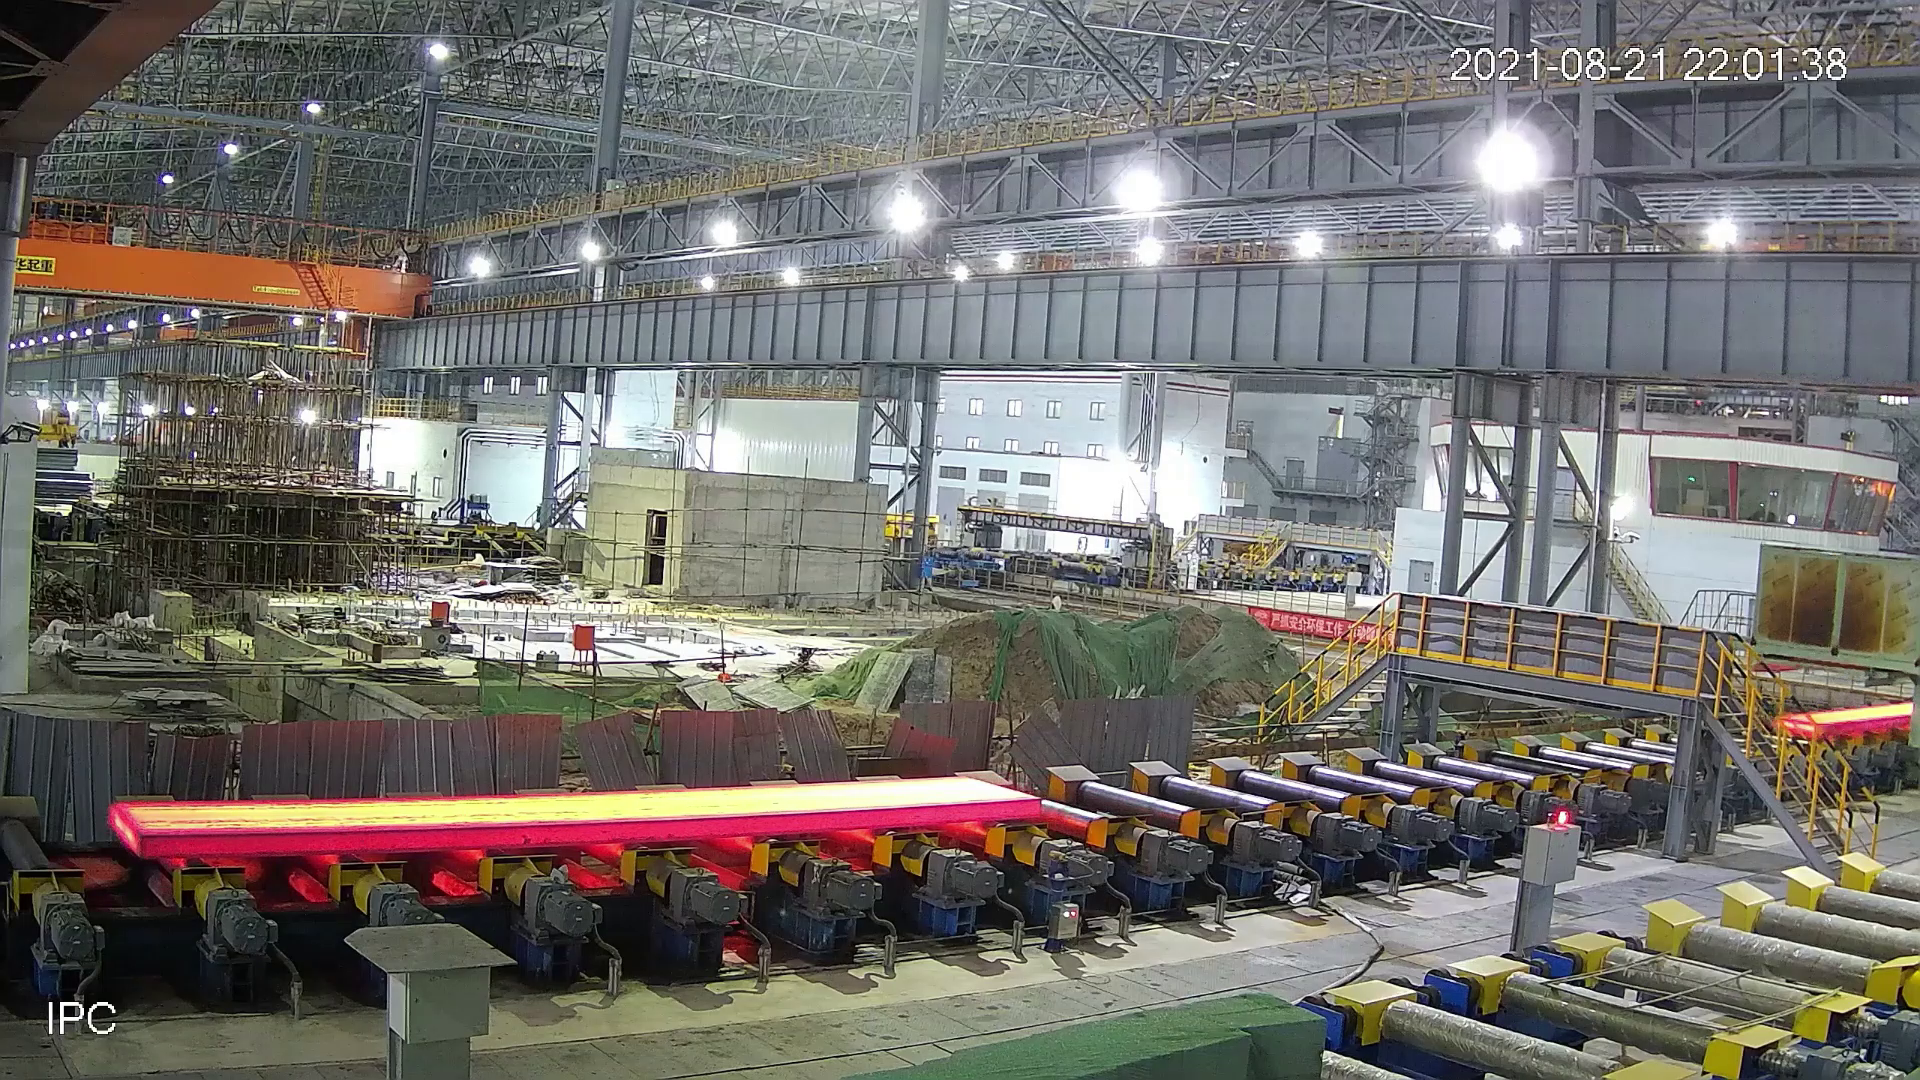slab: (105, 767, 1046, 866), (1771, 698, 1911, 740)
